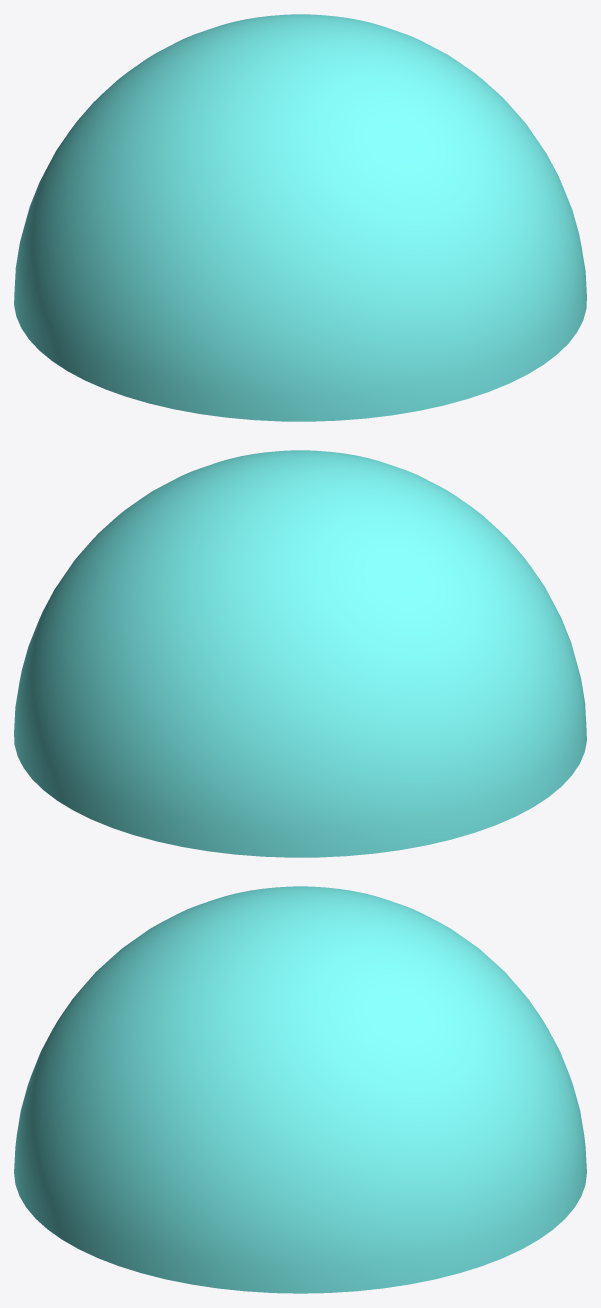
The model's file is skyDome.fbx.
The picture shows the model from 3 angles, top to bottom: view 1: azimuth 30°, elevation 25°; view 2: azimuth 150°, elevation 25°; view 3: azimuth 270°, elevation 25°; orthographic projection.
Visible parts, largest first — view 1: Sphere; view 2: Sphere; view 3: Sphere.
Part boxes in pixels (x1,y1,x2,y2): Sphere: (14,14,586,421); Sphere: (14,450,586,857); Sphere: (14,886,586,1293).
Size of the model in its own units: 200 by 100 by 200.
1 material, 1 textured.
